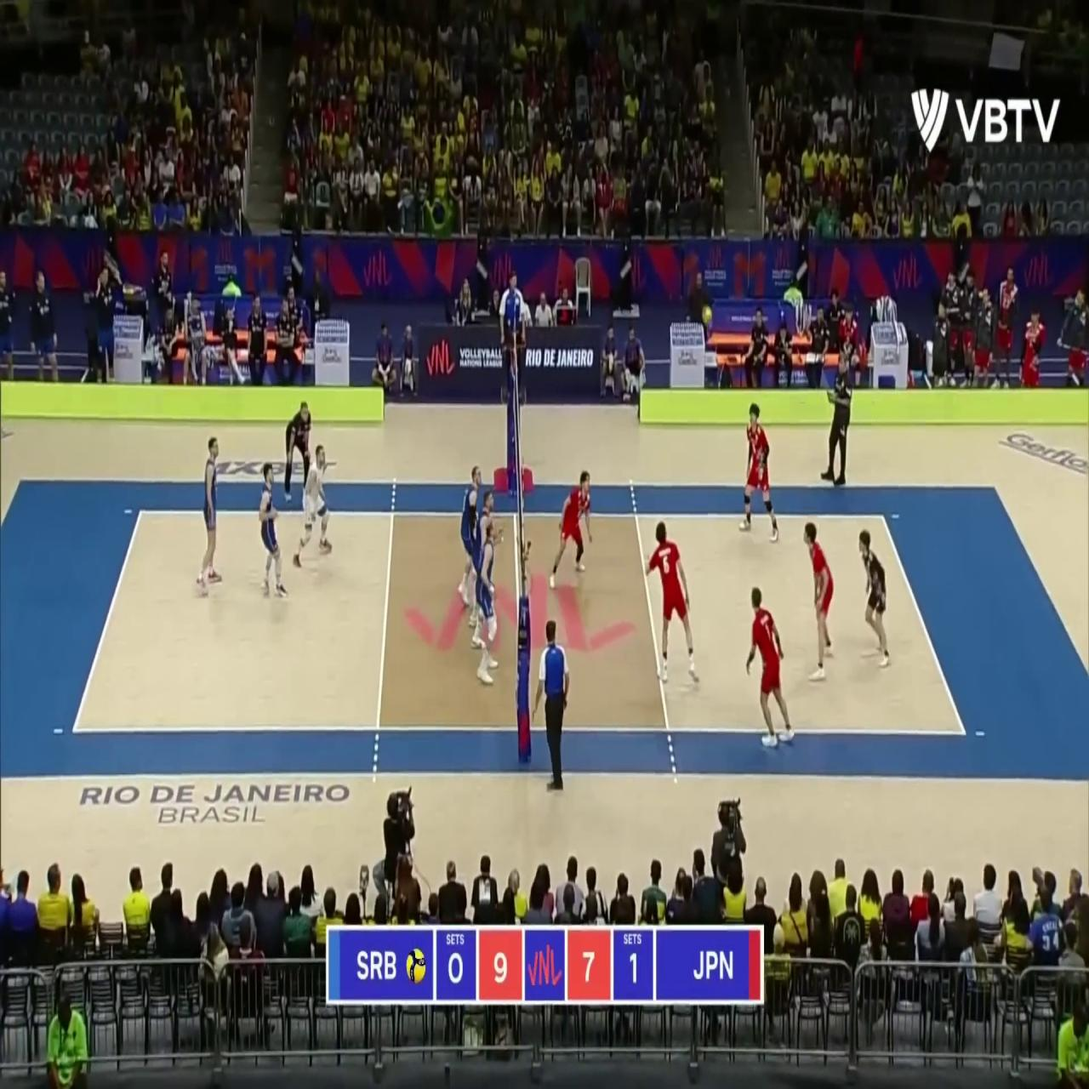ball: (703, 307, 712, 323)
